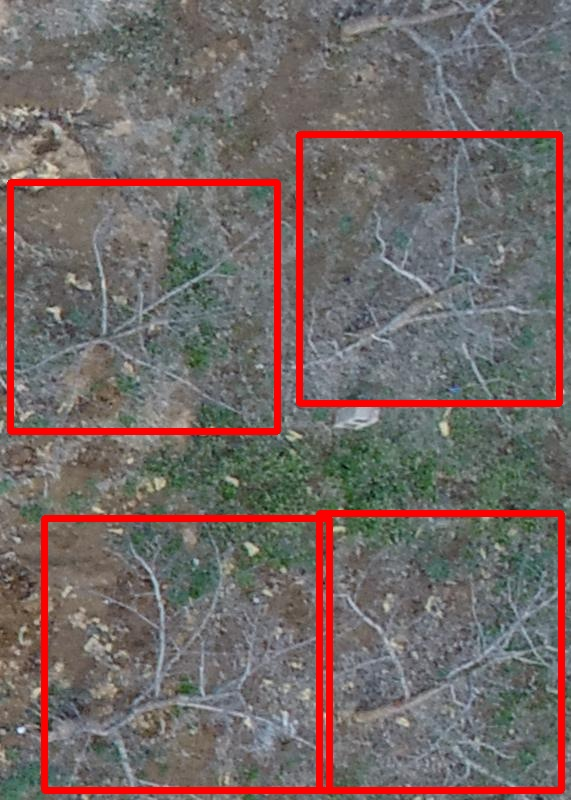apple: (44, 518, 329, 790), (299, 134, 559, 403), (319, 513, 561, 790), (10, 182, 277, 431)
